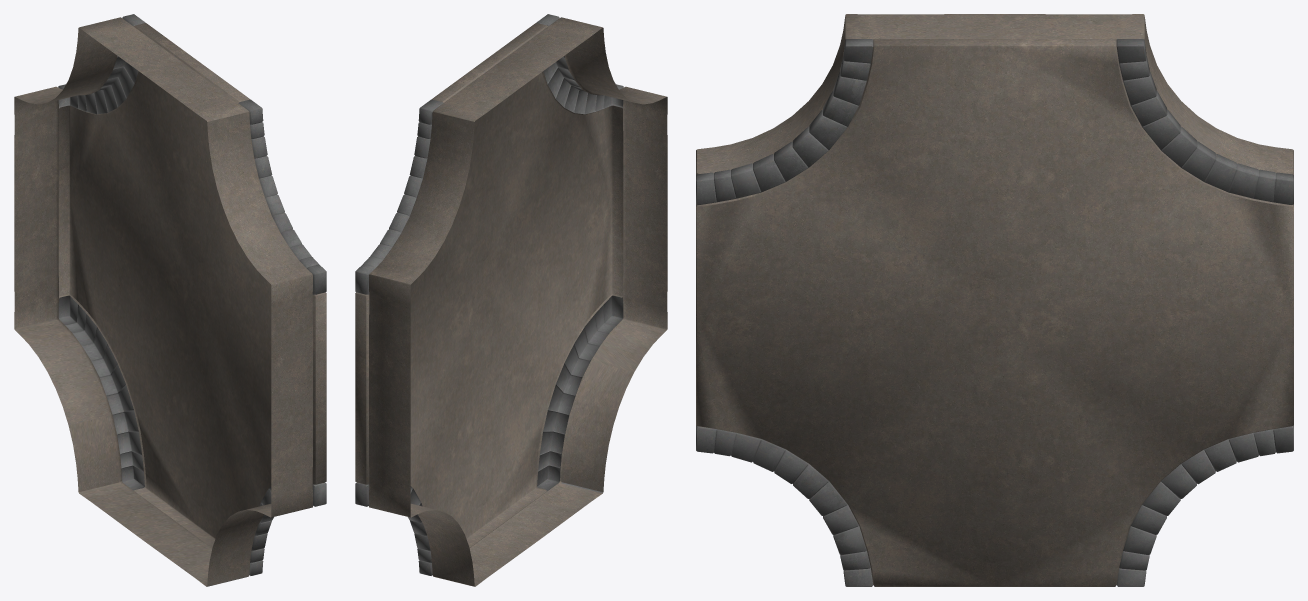
File: cP_Pathway02_v02_Intersection.dae
3 views of the same model, side by side, from view 1: azimuth 30°, elevation 25°; view 2: azimuth 150°, elevation 25°; view 3: azimuth 270°, elevation 25° (orthographic). The views are drawn at different scales.
Parts seen in each view (by area): view 1: cP_Pathway02_v02_Intersection.001; view 2: cP_Pathway02_v02_Intersection.001; view 3: cP_Pathway02_v02_Intersection.001.
Part boxes in pixels (x1=…): cP_Pathway02_v02_Intersection.001: x1=14, y1=14, x2=326, y2=586; cP_Pathway02_v02_Intersection.001: x1=355, y1=14, x2=667, y2=586; cP_Pathway02_v02_Intersection.001: x1=696, y1=14, x2=1293, y2=586.
Bounding box in the file's own units: 0.5 × 4 × 4.
